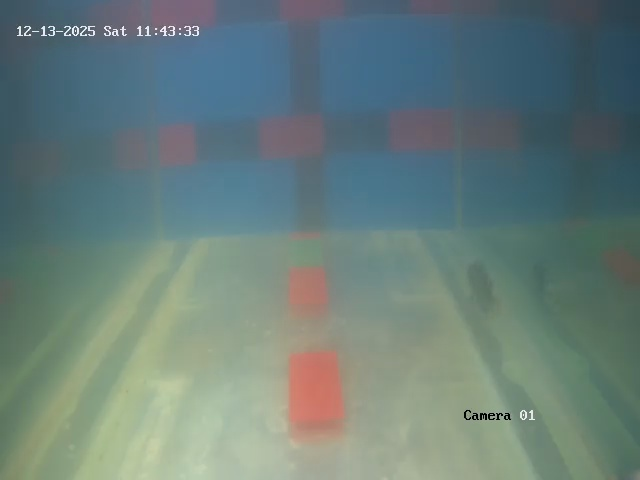fish: (465, 259, 500, 310)
